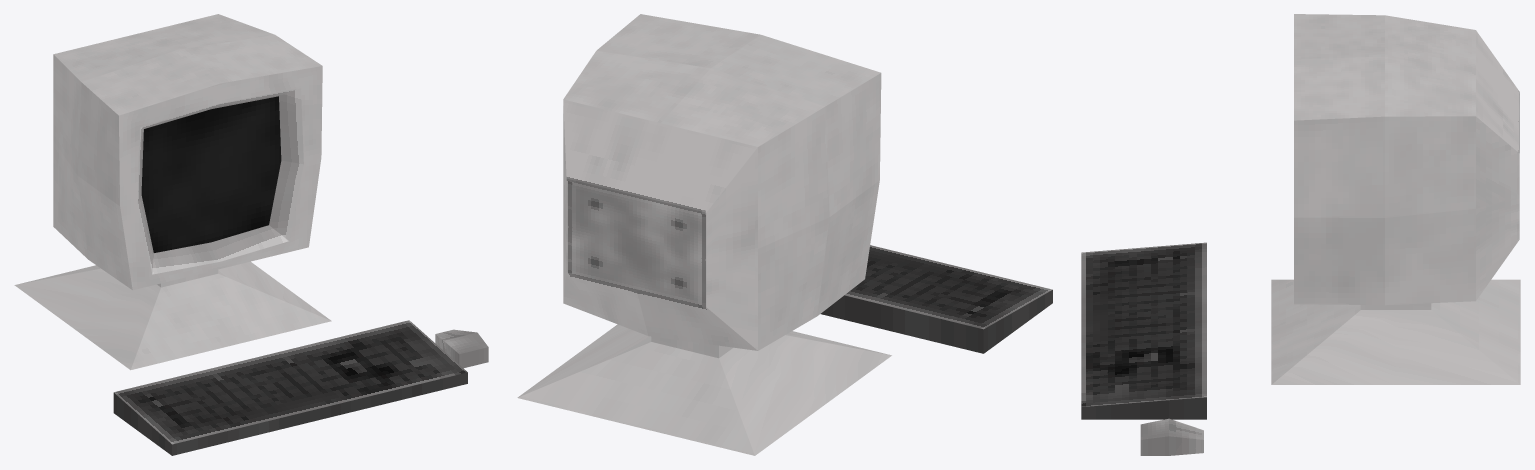
3 views of the same model, side by side, from view 1: azimuth 30°, elevation 25°; view 2: azimuth 150°, elevation 25°; view 3: azimuth 270°, elevation 25° (orthographic). The views are drawn at different scales.
Parts seen in each view (by area): view 1: Pc, Teclado, Raton; view 2: Pc, Teclado; view 3: Pc, Teclado, Raton.
Part boxes in pixels (x1,y1,x2,y2): Pc: (14,14,331,370); Teclado: (113,320,467,455); Raton: (435,329,488,368); Pc: (517,14,891,455); Teclado: (821,245,1052,353); Pc: (1271,14,1520,384); Teclado: (1081,242,1206,419); Raton: (1140,418,1203,455).
Bounding box in the file's own units: 4.2 × 3.21 × 4.3.
1 material, 1 textured.
